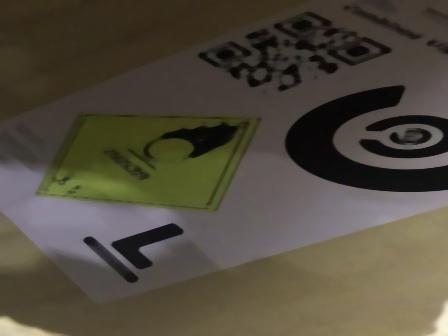oxidizer: (34, 110, 266, 214)
